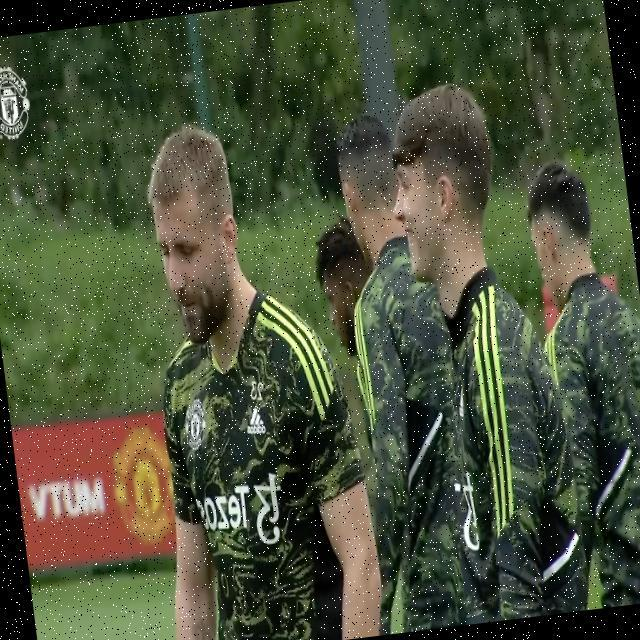Adidas: (244, 403, 267, 438)
